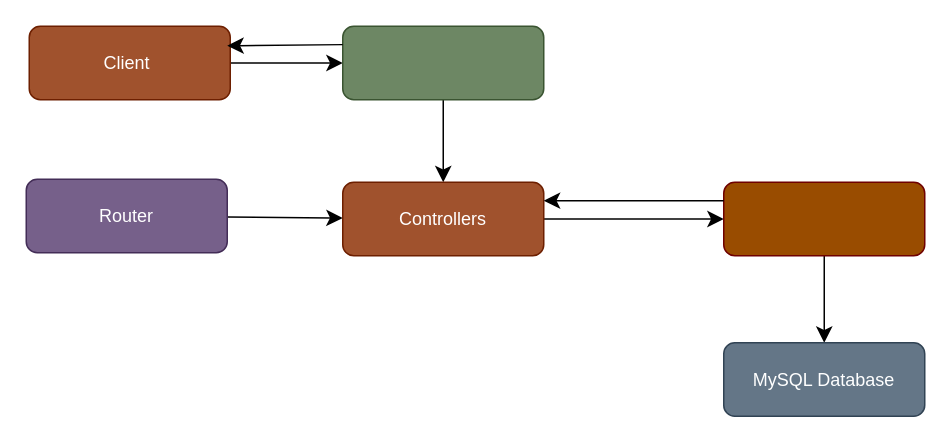
Image size: 951x443. Some labels were removed from this diagram. The shapes that lost their labels are listed below. From the top down, each one's box as (x1, y1, x2, y2) in pixels, then its label:
(341, 25, 544, 100): Express server
(722, 181, 925, 256): Data Access Objects
